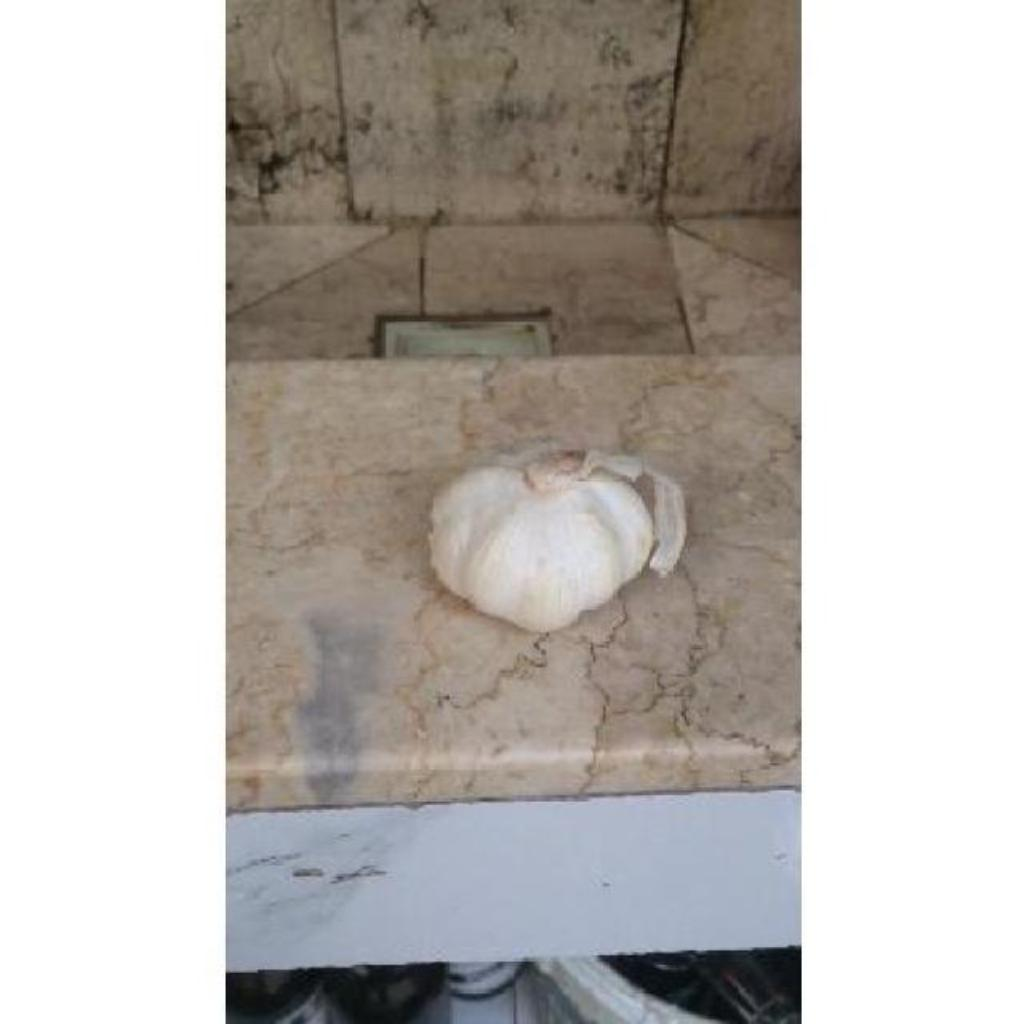garlic: (430, 452, 686, 632)
